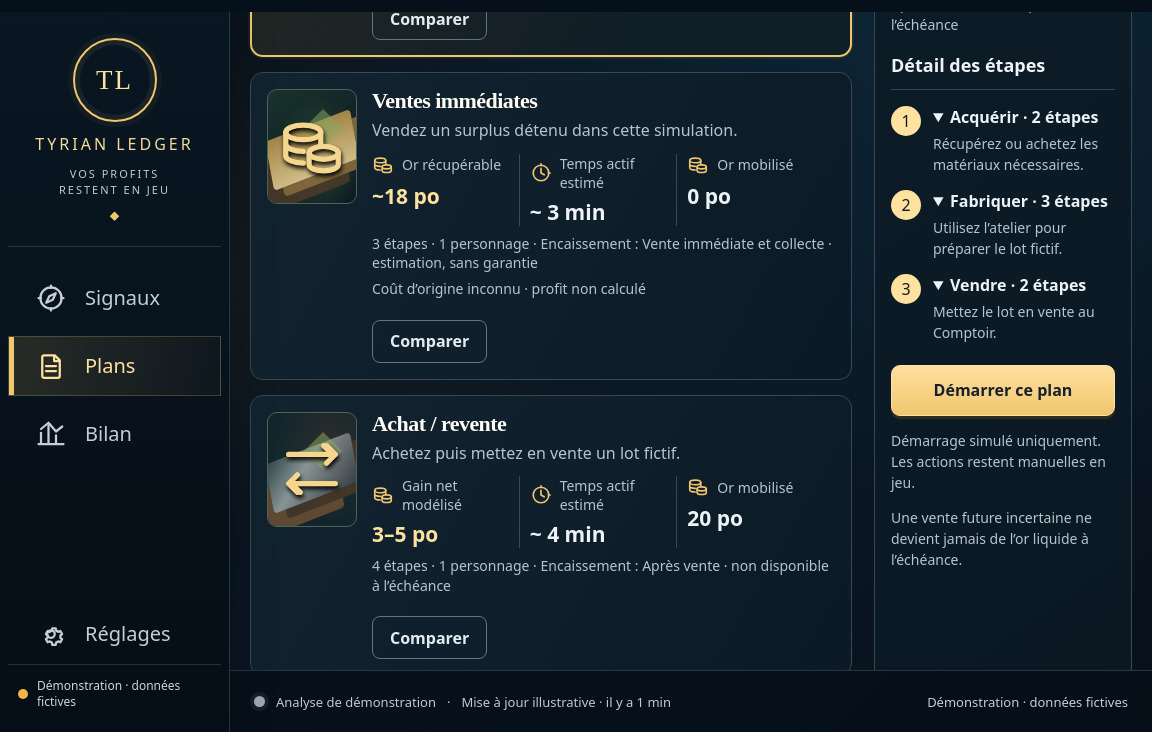
Test: comparison and execution through the fixture provider › selects alternatives and phases without creating an execution; rejects duplicate in-flight starts
(page scrolled)
Click the button with aria-label "Comparer Ventes immédiates". click: (430, 341)
box: [372,320,487,363]
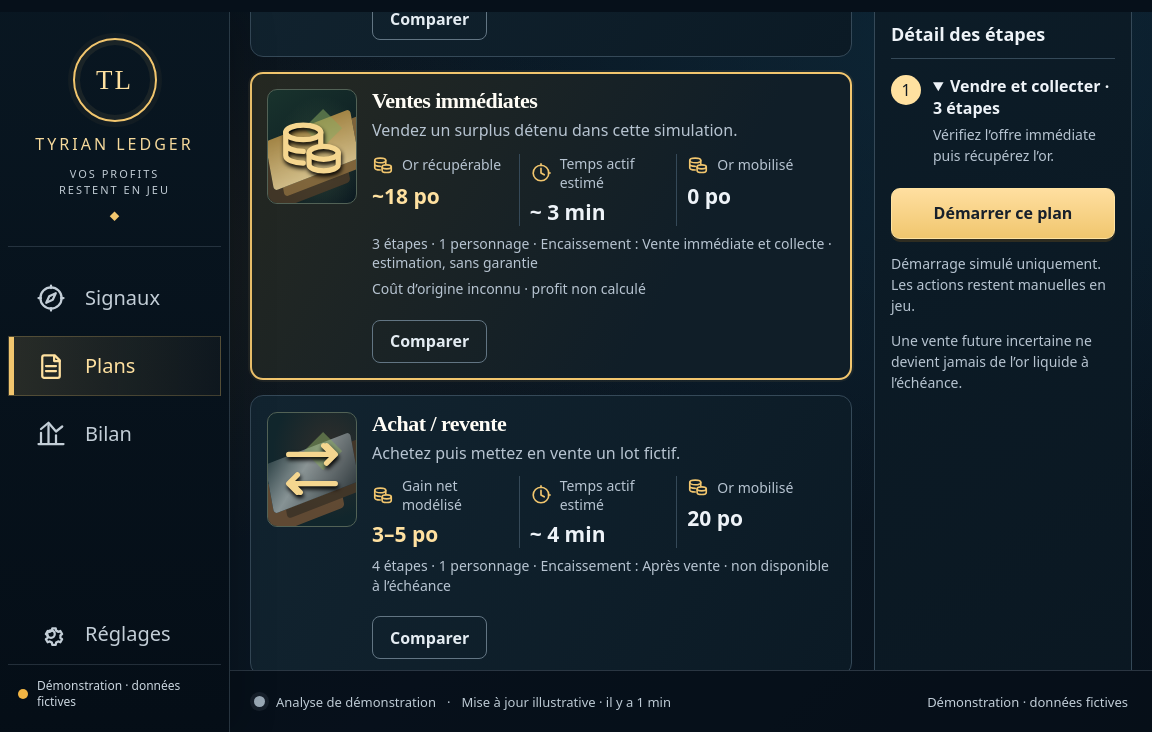
Click the button "Démarrer ce plan". click: (1003, 213)
box: [891,188,1115,239]
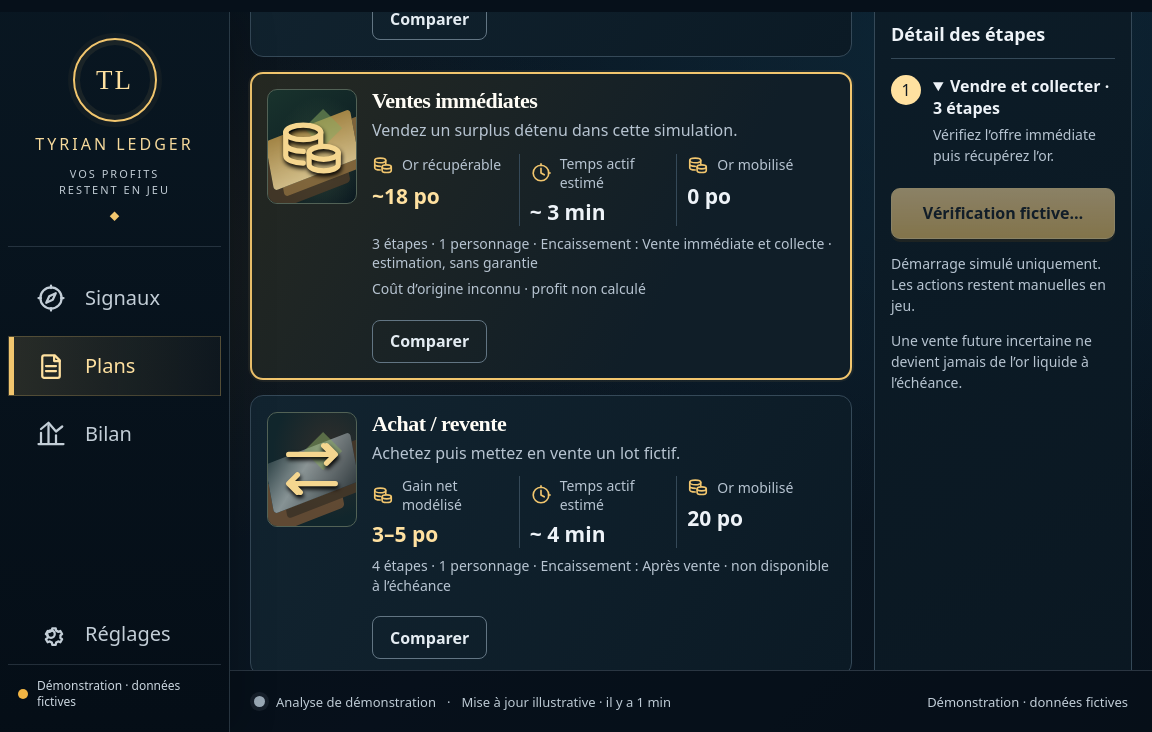
Click the button named "Démarrer ce plan". click: (1003, 213)
box: [891,188,1115,239]
(page scrolled)
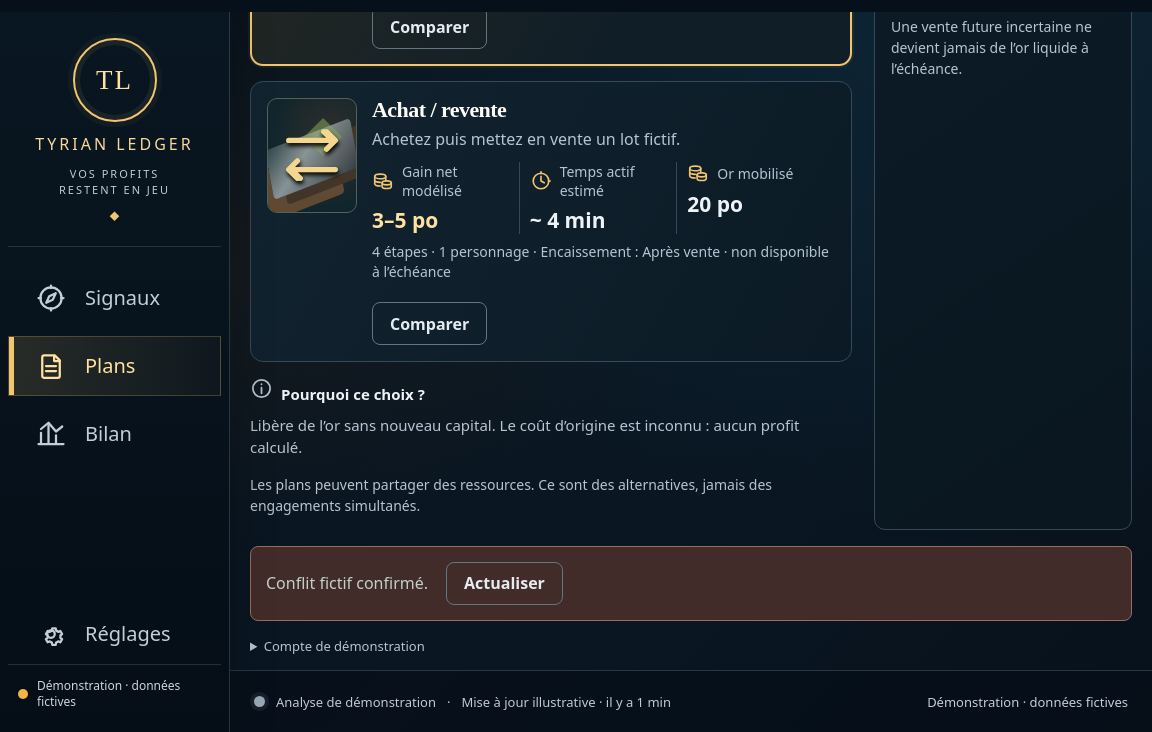
Result: the message shows "Conflit fictif confirmé." at [266,572,428,594]
